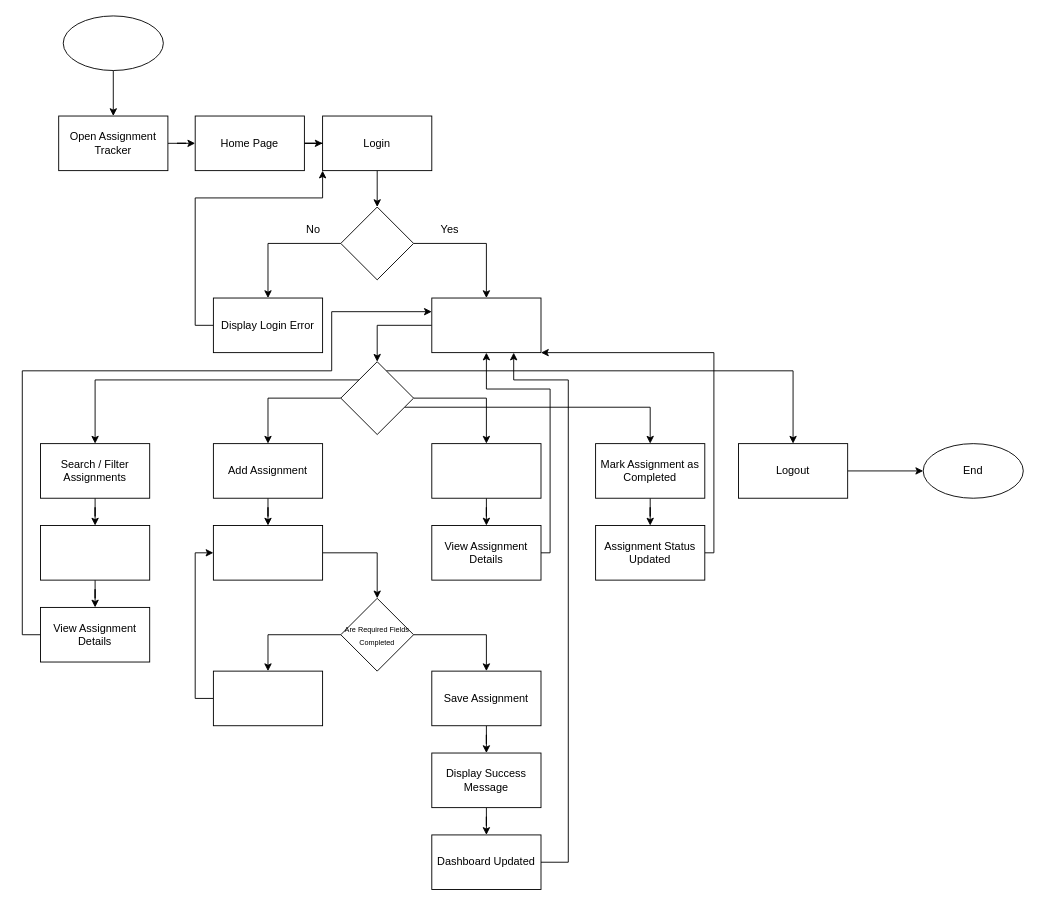
Image size: 1039x905. Some labels were removed from this diagram. The centre of each missing label's shape, as x and y in pixels:
"Dashboard" goes at point (486, 325).
"Display Matching Assignments" goes at point (95, 552).
"Enter Assignment Information" goes at point (267, 552).
"Login Successful?" goes at point (377, 243).
"Select Action" goes at point (377, 398).
"Show Validation Error" goes at point (267, 698).
"Start" goes at point (112, 43).
"View Assignment List" goes at point (486, 470).
